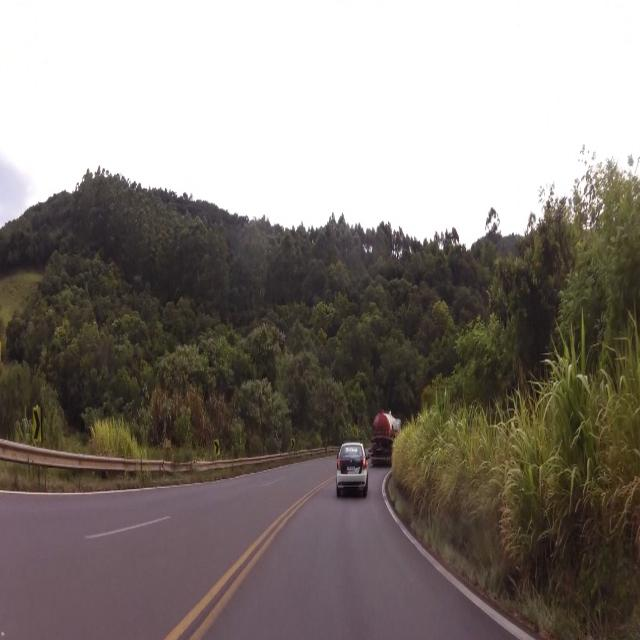Del: (27, 397, 46, 446)
